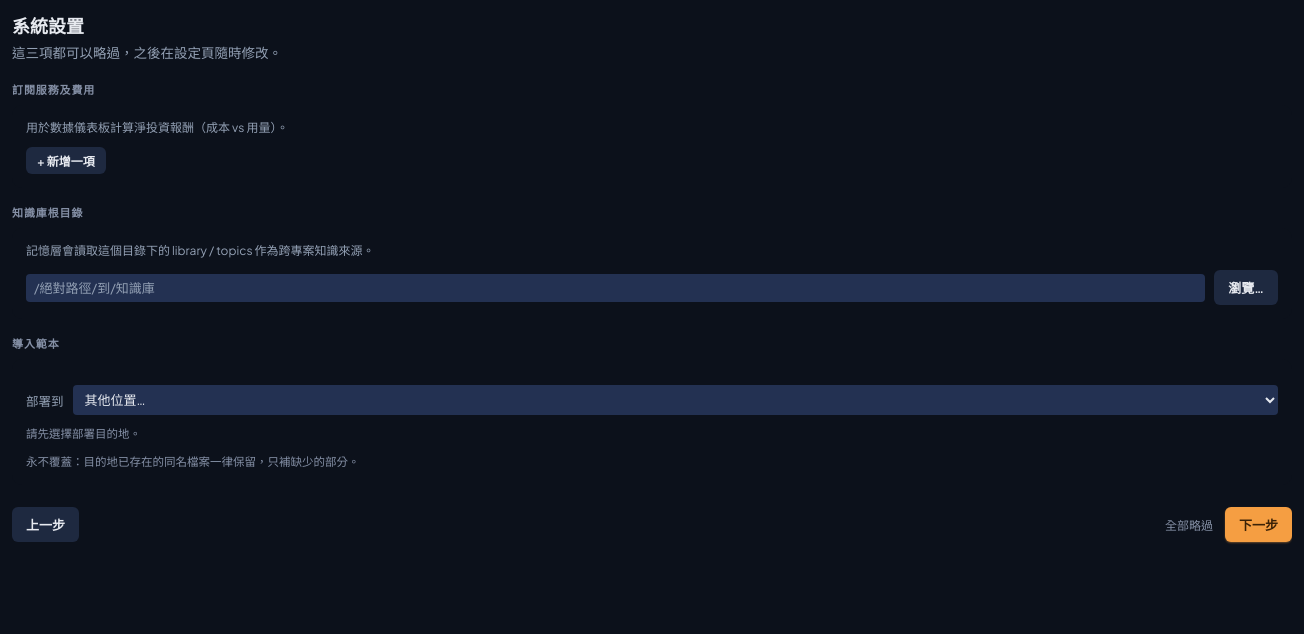
SystemSettingsCard 系統設置頁（訂閱 + KMS 根目錄） › 儲存失敗：顯示指向出錯區塊的訊息、不外洩後端原文、留在原頁
The image size is (1304, 634).
Step 1. Click the button "+ 新增一項" → (66, 161), box [26,147,106,174]
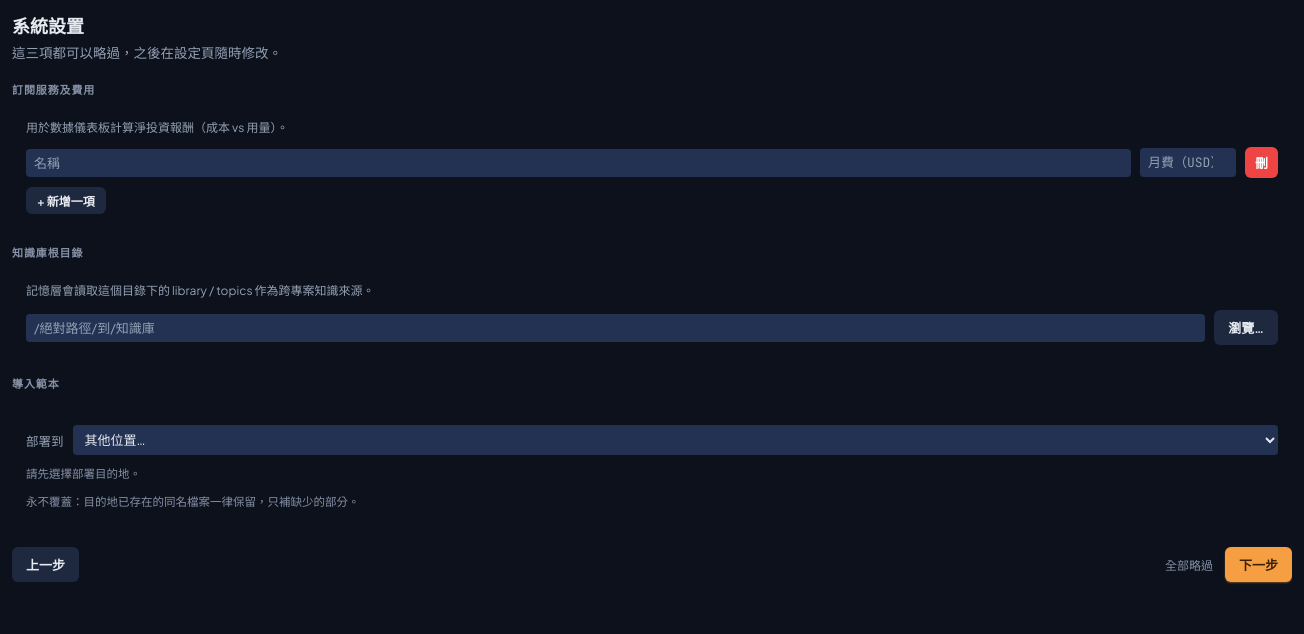
Step 2. Type "Claude" into the field with placeholder "名稱" → (578, 163), box [26,149,1131,177]
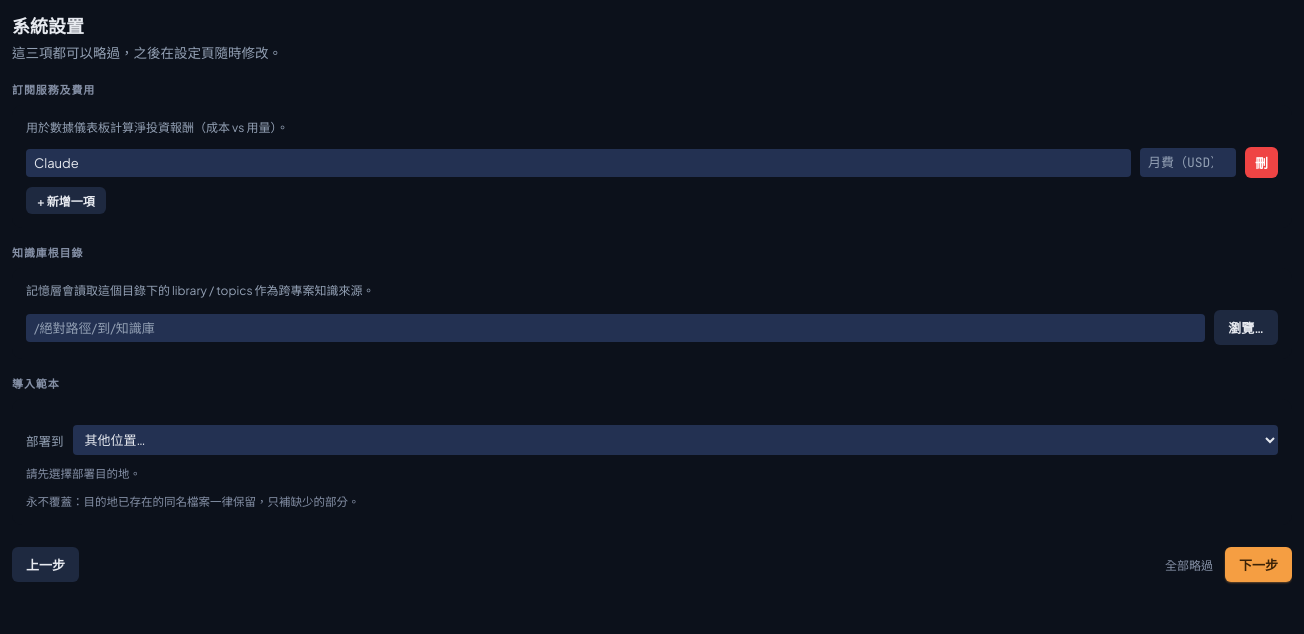
Step 3. Type "200" into the number field with placeholder "月費（USD）" → (1188, 163), box [1140,148,1236,177]
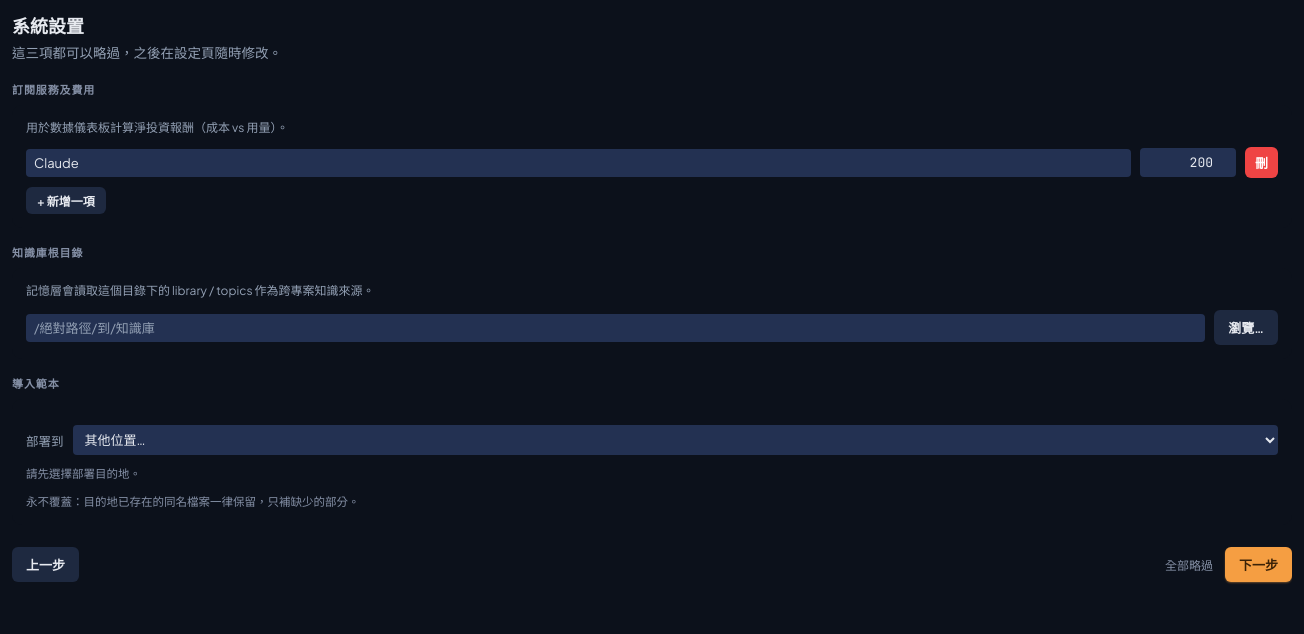
Step 4. Click the button "下一步" → (1258, 564), box [1225,547,1292,582]
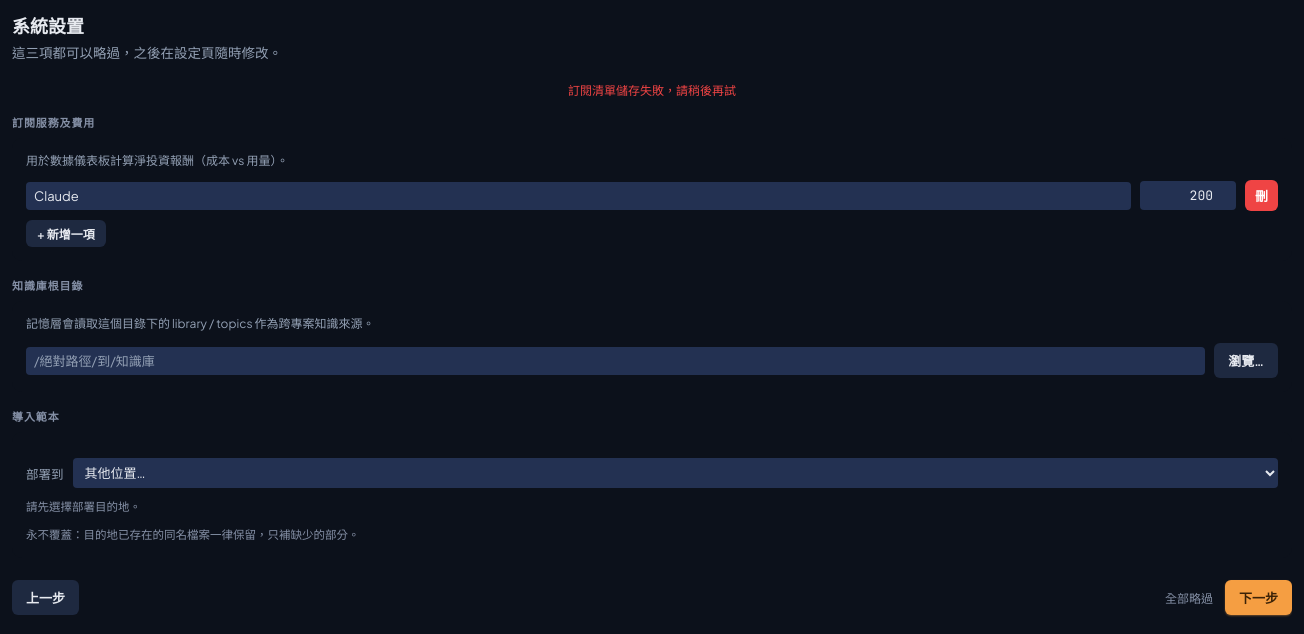
Result: the text "訂閱清單儲存失敗，請稍後再試" is shown at [568,83,736,98]
